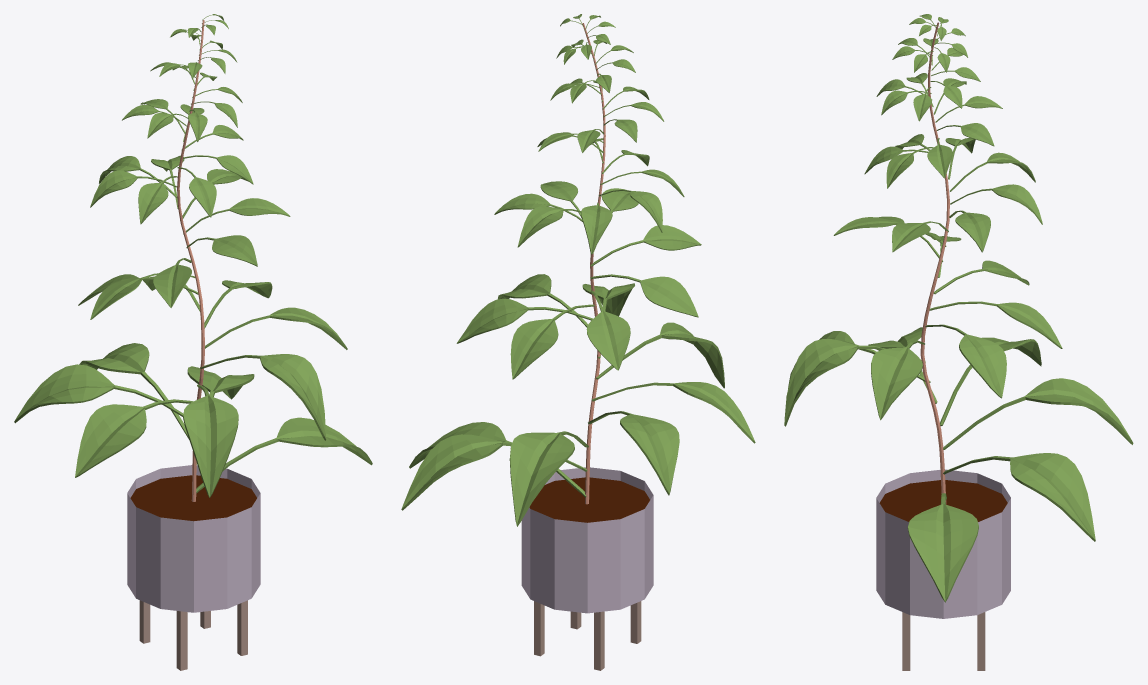
File: spiral_plant.glb
The picture shows the model from 3 angles, left to right: view 1: azimuth 30°, elevation 25°; view 2: azimuth 150°, elevation 25°; view 3: azimuth 270°, elevation 25°; orthographic projection. The views are drawn at different scales.
Parts seen in each view (by area): view 1: spiral_plant_pot, spiral_plant_pot.001, spiral_plant_leaf.006, spiral_plant_leaf.005, spiral_plant_leaf.004, spiral_plant_leaf.007, spiral_plant_leaf.001, spiral_plant_legs, spiral_plant_leaf.003, spiral_plant_stem, spiral_plant_leaf.008, spiral_plant_leaf.002 (+10 smaller); view 2: spiral_plant_pot, spiral_plant_pot.001, spiral_plant_leaf.003, spiral_plant_leaf.002, spiral_plant_leaf.004, spiral_plant_leaf.010, spiral_plant_legs, spiral_plant_leaf.011, spiral_plant_leaf.009, spiral_plant_leaf.005, spiral_plant_leaf.012, spiral_plant_leaf.006 (+11 smaller); view 3: spiral_plant_pot, spiral_plant_leaf.001, spiral_plant_leaf.002, spiral_plant_pot.001, spiral_plant_leaf.003, spiral_plant_leaf.008, spiral_plant_leaf.007, spiral_plant_leaf.009, spiral_plant_stem, spiral_plant_leaf.010, spiral_plant_legs, spiral_plant_leaf.004 (+8 smaller).
Part boxes in pixels (<box>): spiral_plant_pot: <box>127,465,260,612</box>; spiral_plant_pot.001: <box>130,475,256,521</box>; spiral_plant_leaf.006: <box>183,384,238,497</box>; spiral_plant_leaf.005: <box>75,399,193,477</box>; spiral_plant_leaf.004: <box>14,364,183,423</box>; spiral_plant_leaf.007: <box>200,354,326,440</box>; spiral_plant_leaf.001: <box>196,417,372,493</box>; spiral_plant_legs: <box>139,600,247,670</box>; spiral_plant_leaf.003: <box>79,343,189,439</box>; spiral_plant_stem: <box>177,20,204,501</box>; spiral_plant_leaf.008: <box>205,307,347,349</box>; spiral_plant_leaf.002: <box>187,366,254,464</box>; spiral_plant_pot: <box>521,467,653,613</box>; spiral_plant_pot.001: <box>529,477,649,522</box>; spiral_plant_leaf.003: <box>509,431,588,526</box>; spiral_plant_leaf.002: <box>401,434,587,510</box>; spiral_plant_leaf.004: <box>588,411,679,495</box>; spiral_plant_leaf.010: <box>510,304,594,379</box>; spiral_plant_legs: <box>534,601,641,670</box>; spiral_plant_leaf.011: <box>586,290,630,370</box>; spiral_plant_leaf.009: <box>456,298,592,343</box>; spiral_plant_leaf.005: <box>592,382,755,443</box>; spiral_plant_leaf.012: <box>590,274,698,317</box>; spiral_plant_leaf.006: <box>596,322,724,388</box>; spiral_plant_pot: <box>876,469,1010,618</box>; spiral_plant_leaf.001: <box>907,493,978,602</box>; spiral_plant_leaf.002: <box>943,453,1095,541</box>; spiral_plant_pot.001: <box>879,480,1007,521</box>; spiral_plant_leaf.003: <box>943,378,1133,449</box>; spiral_plant_leaf.008: <box>871,340,924,420</box>; spiral_plant_leaf.007: <box>784,339,925,426</box>; spiral_plant_leaf.009: <box>925,324,1006,398</box>; spiral_plant_stem: <box>920,22,949,504</box>; spiral_plant_leaf.010: <box>929,301,1062,348</box>; spiral_plant_legs: <box>902,612,985,670</box>; spiral_plant_leaf.004: <box>940,337,1041,425</box>.
Size of the model in its own units: 8.27 by 15.34 by 7.62.
